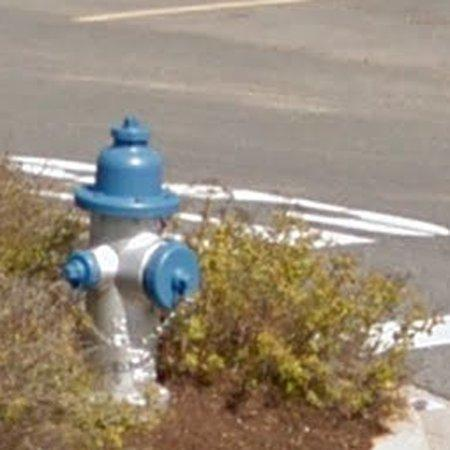a fire hydrant: (63, 117, 200, 405)
